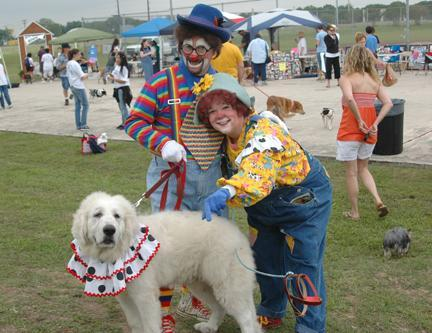Great_Pyrenees: (72, 191, 268, 332)
